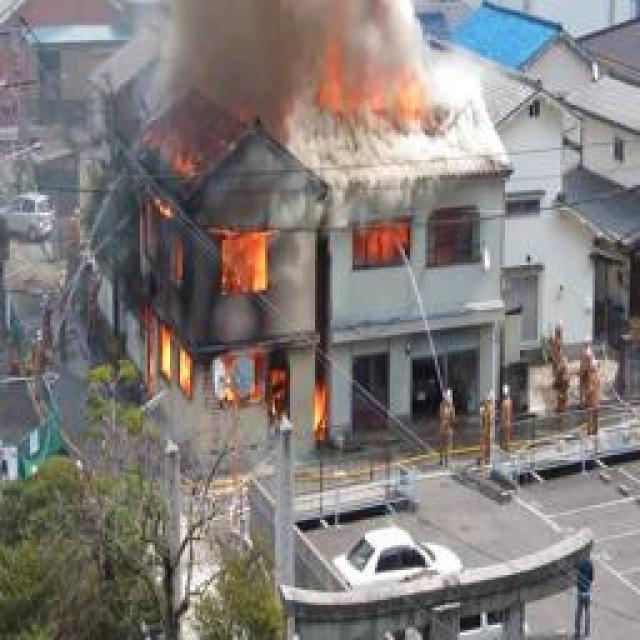Fire: (108, 142, 333, 452), (302, 28, 444, 134), (341, 218, 433, 274)
